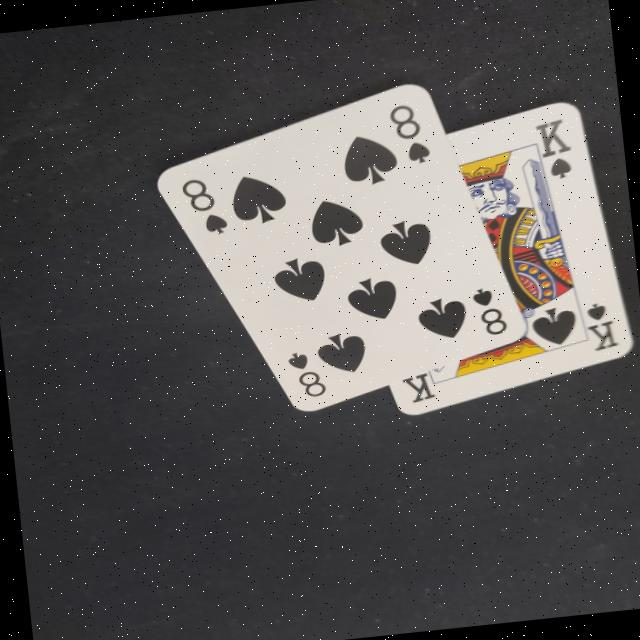8s: (174, 170, 235, 242), (378, 98, 438, 170), (280, 338, 332, 400), (461, 278, 513, 339)
Ks: (524, 114, 580, 184), (580, 294, 622, 354)
